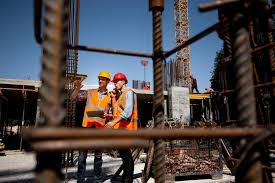safe person: (112, 73, 144, 128), (86, 70, 112, 124)
